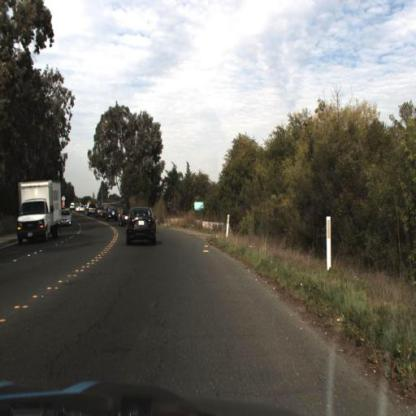car: (124, 206, 158, 251), (106, 201, 123, 228), (60, 207, 74, 233), (93, 204, 110, 225), (85, 196, 99, 220), (118, 206, 129, 231)
truck: (12, 173, 65, 252)
